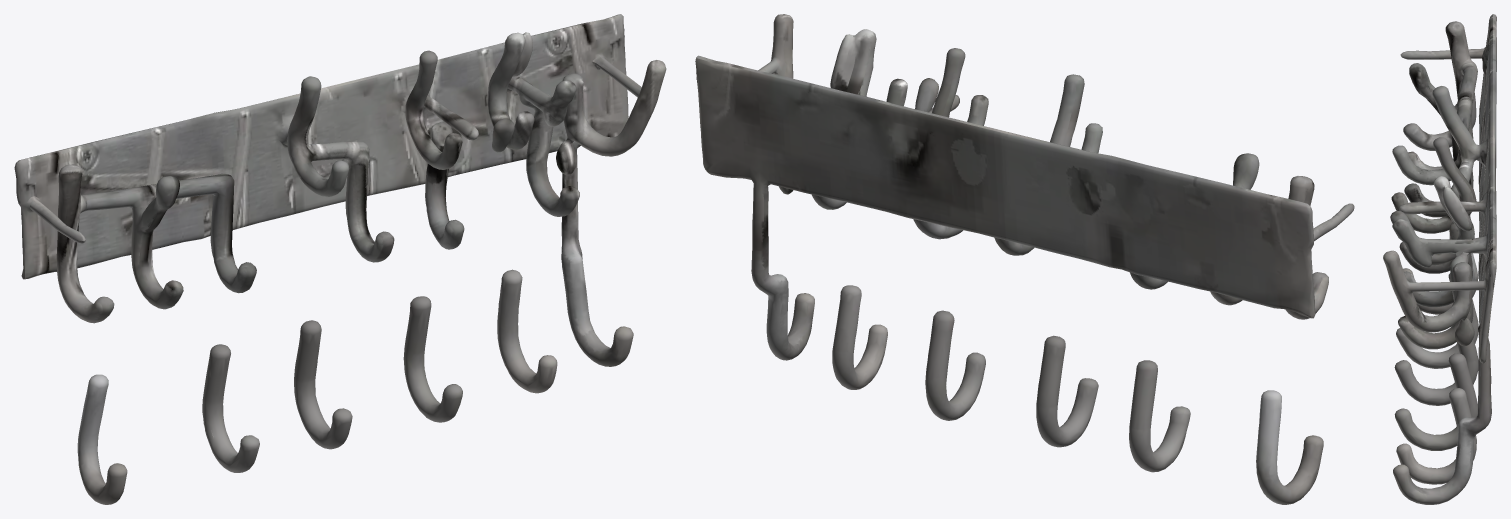
Rendered from meat-hooks-rack.glb.
3 views of the same model, side by side, from view 1: azimuth 30°, elevation 25°; view 2: azimuth 150°, elevation 25°; view 3: azimuth 270°, elevation 25° (orthographic). The views are drawn at different scales.
Visible parts, largest first — view 1: cowninja-meat-hooks-rack; view 2: cowninja-meat-hooks-rack; view 3: cowninja-meat-hooks-rack.
Part boxes in pixels (<box>): cowninja-meat-hooks-rack: <box>14,14,666,504</box>; cowninja-meat-hooks-rack: <box>695,14,1354,504</box>; cowninja-meat-hooks-rack: <box>1383,14,1496,504</box>.
Size of the model in its own units: 1 by 0.5817 by 0.1905.
Materials: 1 (1 with a texture image).
